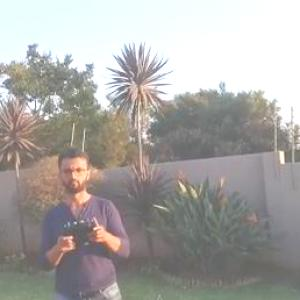follow: (35, 137, 137, 299)
